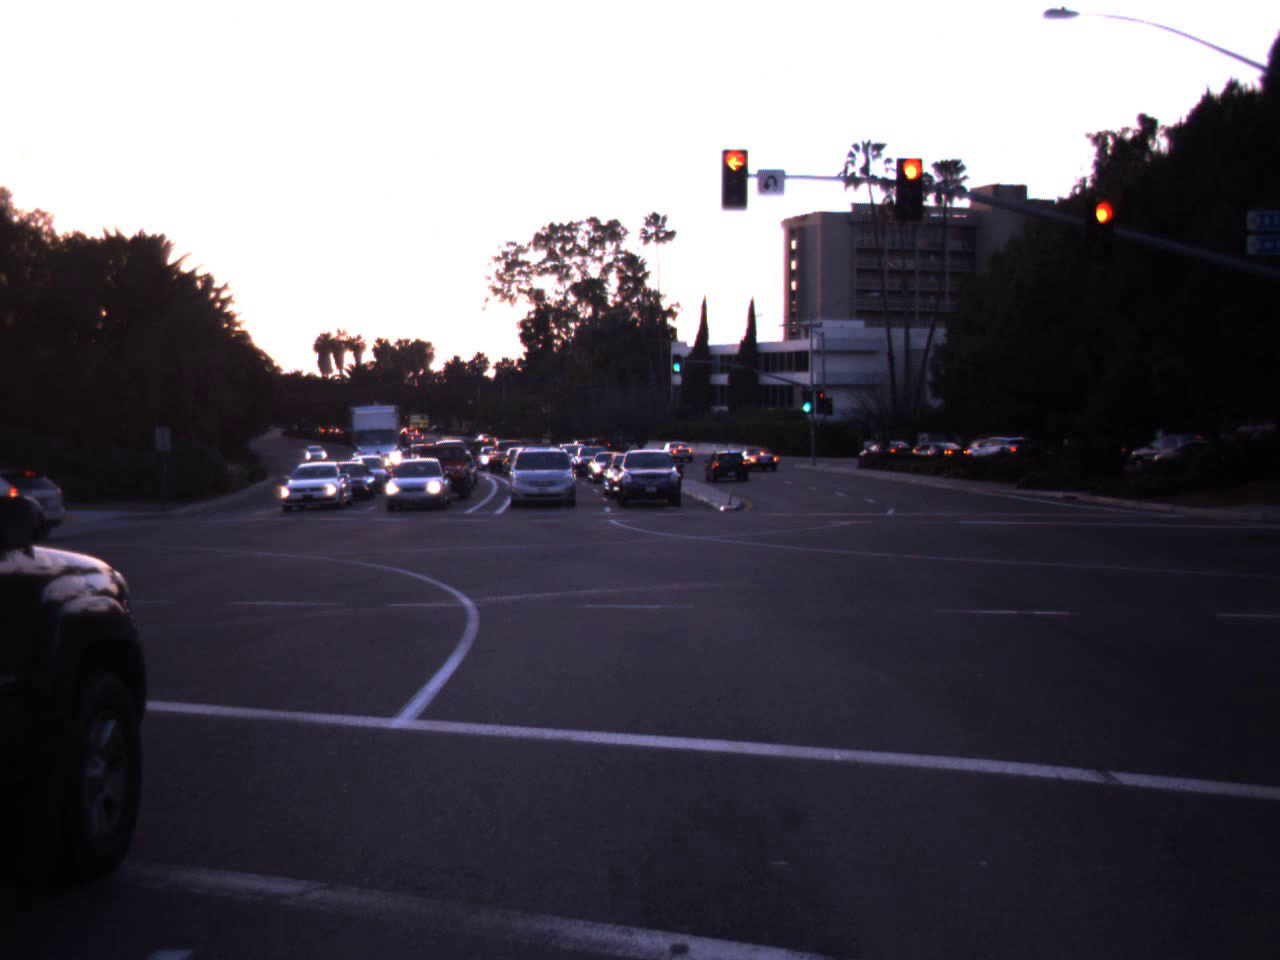go: (796, 371, 817, 416), (669, 343, 684, 373)
stop: (886, 149, 940, 239), (1080, 195, 1128, 276), (708, 142, 762, 209)
